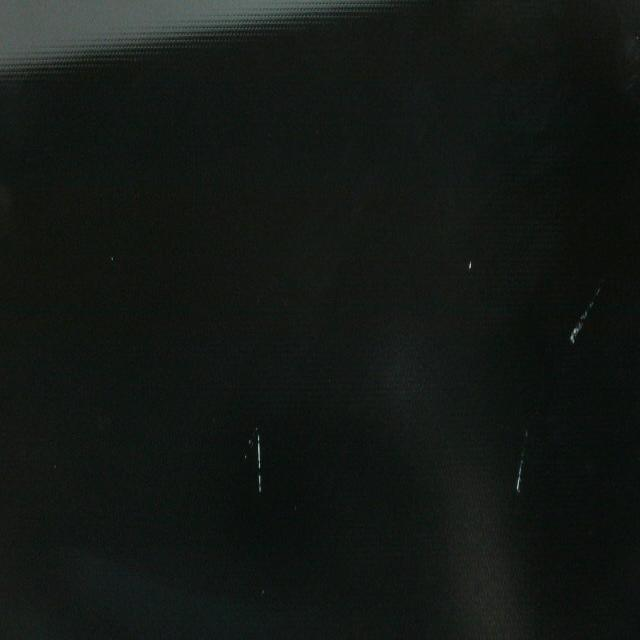scratch: (565, 278, 611, 357), (246, 420, 272, 503), (512, 422, 538, 500)
very small scratch: (462, 247, 480, 275)
